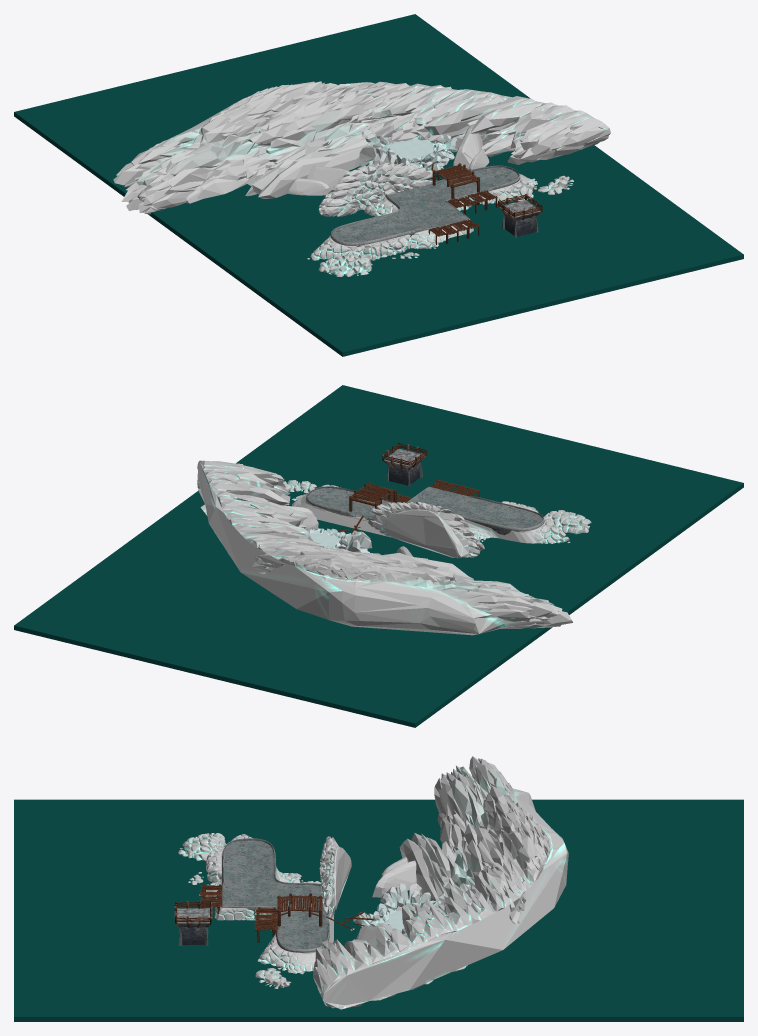
Rendered from SalleCombat_02.fbx.
3 renders of one model, top to bottom at view 1: azimuth 30°, elevation 25°; view 2: azimuth 150°, elevation 25°; view 3: azimuth 270°, elevation 25°, orthographic. The views are drawn at different scales.
Parts seen in each view (by area): view 1: Eau, Rock_001, Rock_02, Sol.001, Rock_04, Rock_003, Sol, Tour, Rock.001, Rock_003.001, Rock.003, Rock.002; view 2: Eau, Rock_001, Rock_04, Rock_02, Sol.001, Sol, Tour, Rock_003; view 3: Eau, Rock_001, Sol.001, Rock_02, Rock_04, Rock_003, Sol, Rock.002, Tour, Ponton.009, Ponton.010.
Part boxes in pixels (x1,y1,x2,y2): Eau: [14, 14, 743, 356]; Rock_001: [113, 81, 610, 214]; Rock_02: [307, 174, 573, 276]; Sol.001: [332, 167, 518, 242]; Rock_04: [318, 163, 432, 216]; Rock_003: [359, 130, 458, 170]; Sol: [330, 165, 520, 246]; Tour: [498, 194, 542, 236]; Rock.001: [453, 124, 482, 170]; Rock_003.001: [386, 139, 433, 159]; Rock.003: [287, 178, 330, 195]; Rock.002: [307, 165, 349, 190]; Eau: [14, 385, 743, 727]; Rock_001: [197, 460, 572, 635]; Rock_04: [368, 501, 484, 558]; Rock_02: [281, 480, 591, 543]; Sol.001: [308, 487, 542, 528]; Sol: [306, 486, 544, 535]; Tour: [382, 442, 426, 485]; Rock_003: [305, 528, 372, 552]; Eau: [14, 799, 743, 1021]; Rock_001: [312, 756, 568, 1009]; Sol.001: [223, 840, 328, 949]; Rock_02: [178, 833, 333, 988]; Rock_04: [319, 836, 351, 918]; Rock_003: [350, 883, 445, 937]; Sol: [222, 838, 329, 953]; Rock.002: [372, 860, 416, 897]; Tour: [174, 901, 212, 944]; Ponton.009: [281, 895, 317, 911]; Ponton.010: [277, 893, 322, 926].
Bounding box in the file's own units: 20520 × 4163 × 27047.
